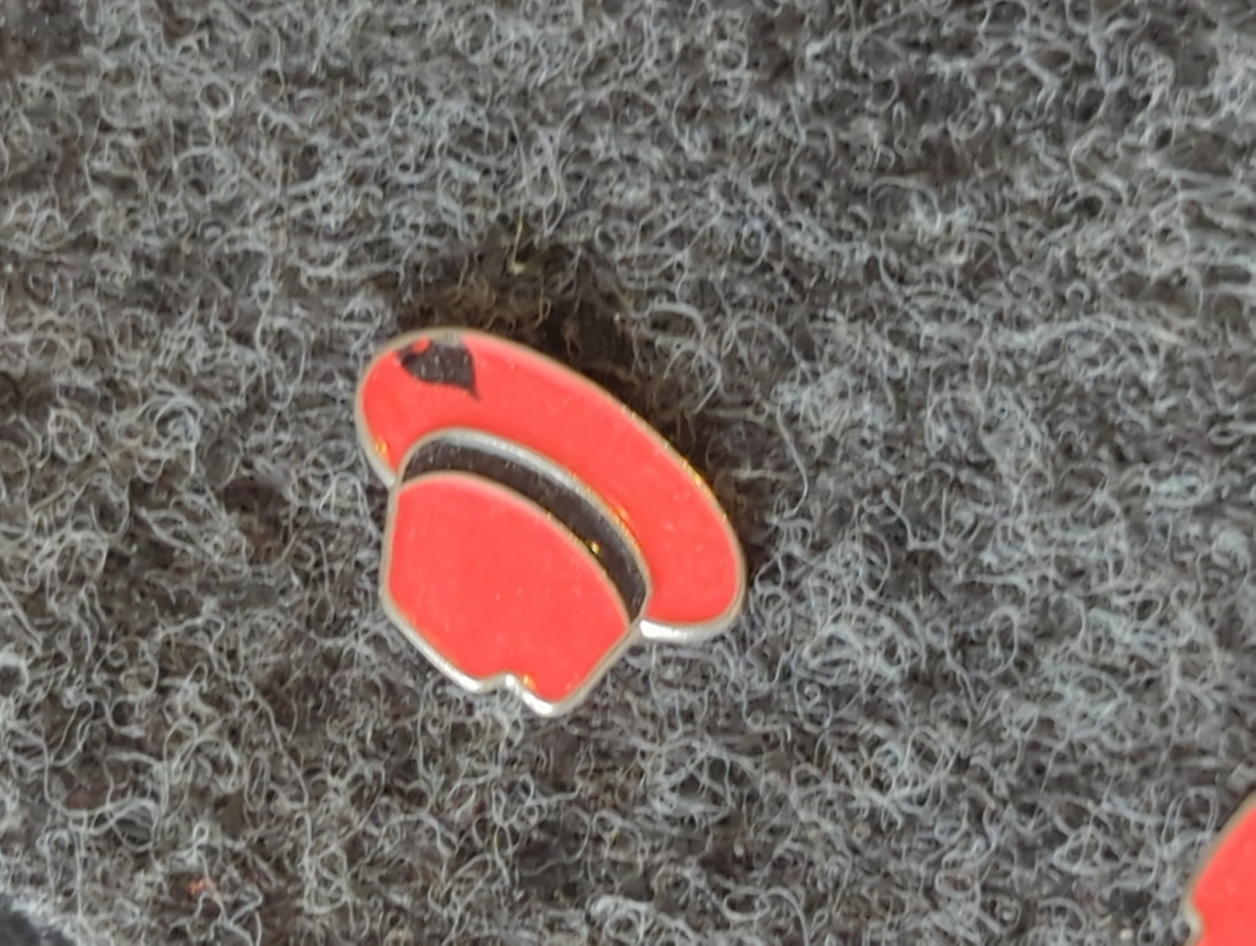Red-Hat: (264, 227, 897, 802)
Scratch: (345, 282, 572, 447)
